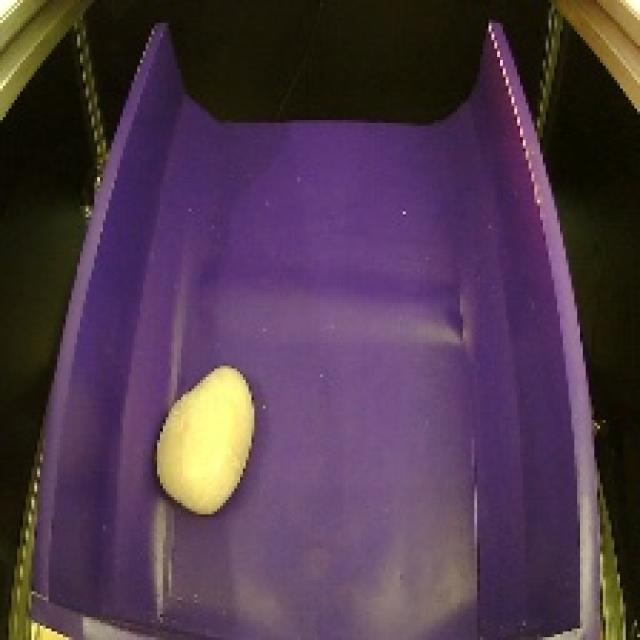cobbles: (147, 356, 265, 524)
